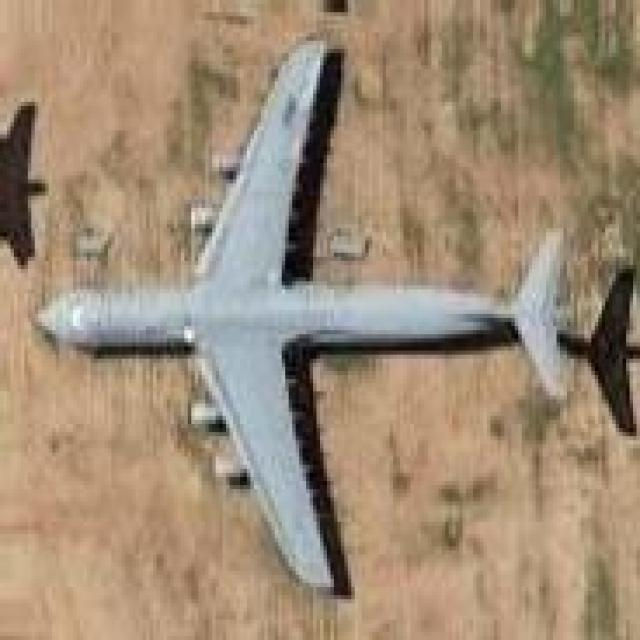C-5_TopDown: (31, 33, 636, 599)
